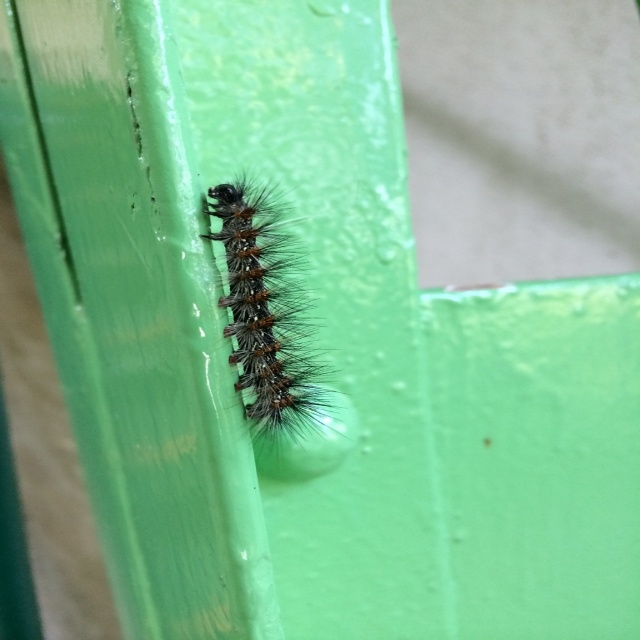Caterpillar: (196, 162, 349, 456)
